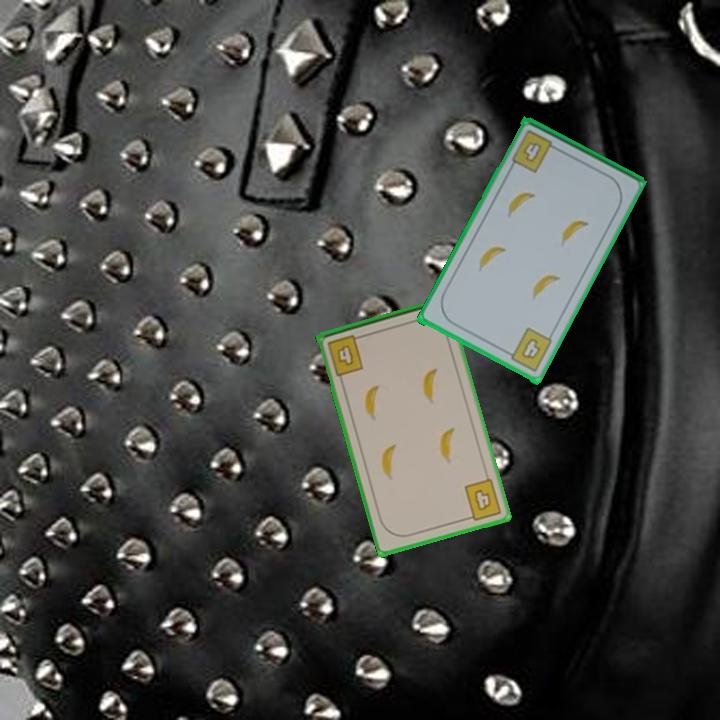4b: (501, 325, 555, 375), (508, 126, 562, 176), (461, 475, 505, 524), (324, 331, 367, 379)
